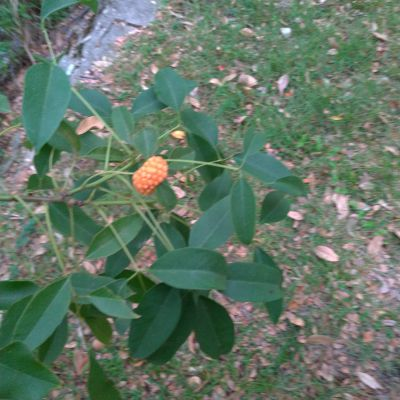eggs: (127, 154, 172, 196)
